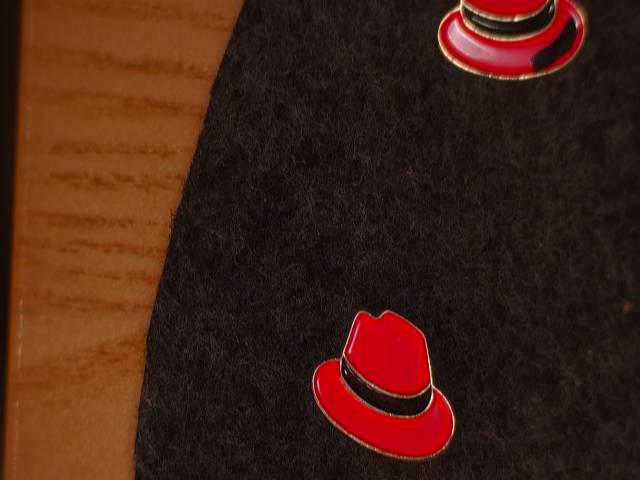Red-Hat: (305, 286, 486, 471), (429, 0, 599, 107)
Scratch: (523, 11, 592, 78)
